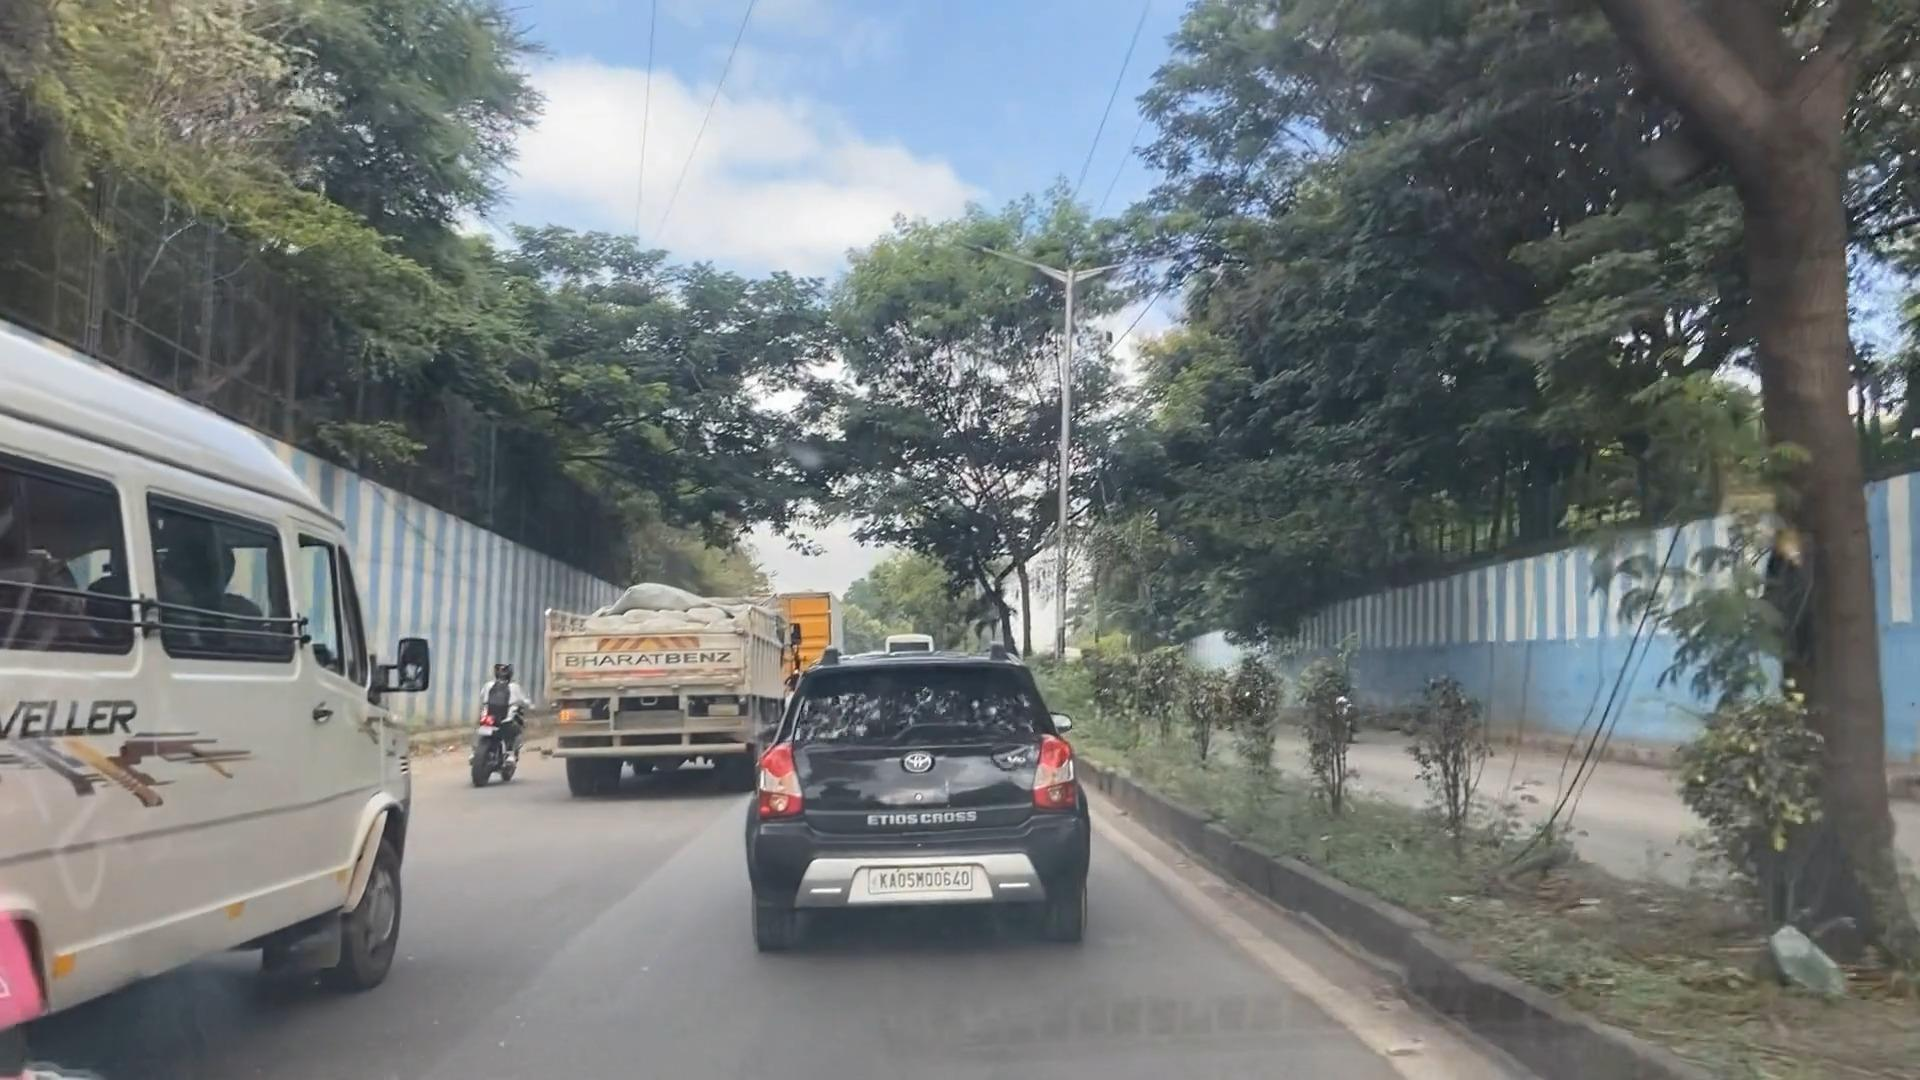HMV: (0, 322, 467, 1080), (542, 524, 796, 803)
LMV: (707, 608, 1130, 992), (440, 596, 534, 803)
